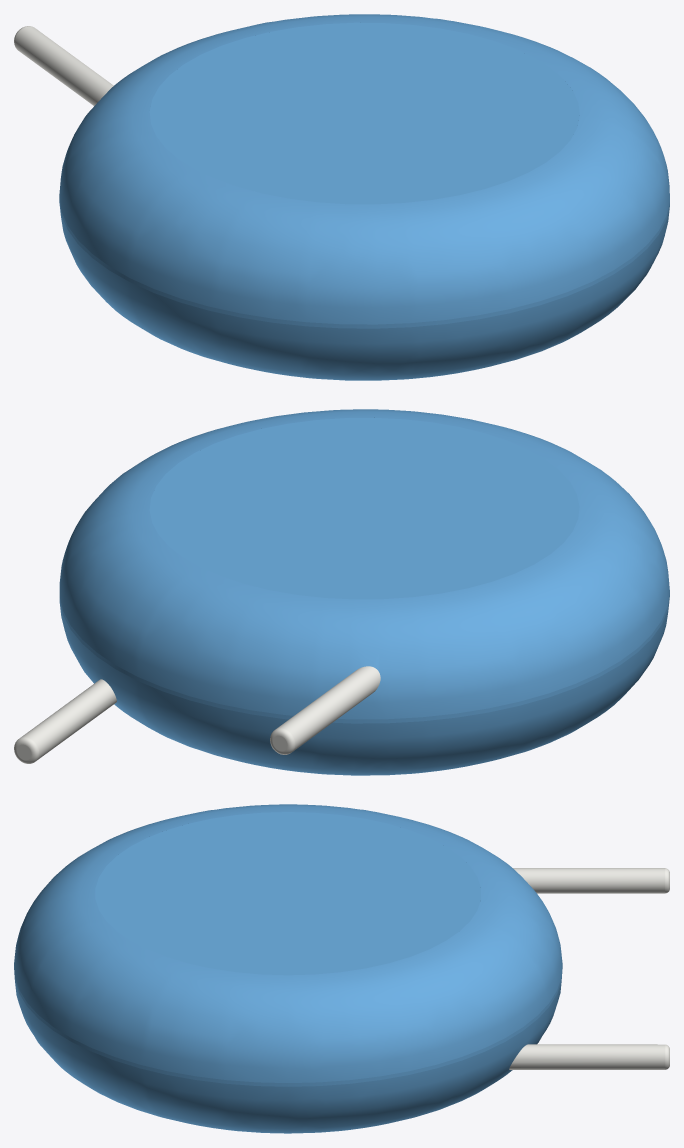
File: RV_Disc_D15.5mm_W4.7mm_P7.5mm.glb
3 views of the same model, one above another, from view 1: azimuth 30°, elevation 25°; view 2: azimuth 150°, elevation 25°; view 3: azimuth 270°, elevation 25° (orthographic). The views are drawn at different scales.
Visible parts, largest first — view 1: Shape_IndexedFaceSet.001, Shape_IndexedFaceSet.003, Shape_IndexedFaceSet.002, Shape_IndexedFaceSet.004, Shape_IndexedFaceSet; view 2: Shape_IndexedFaceSet.001, Shape_IndexedFaceSet.003, Shape_IndexedFaceSet.002, Shape_IndexedFaceSet.004, Shape_IndexedFaceSet.006, Shape_IndexedFaceSet; view 3: Shape_IndexedFaceSet.001, Shape_IndexedFaceSet.003, Shape_IndexedFaceSet.002, Shape_IndexedFaceSet.006, Shape_IndexedFaceSet.004, Shape_IndexedFaceSet.
Part boxes in pixels (x1,y1,x2,y2): Shape_IndexedFaceSet.001: (59, 14, 669, 324); Shape_IndexedFaceSet.003: (149, 22, 579, 204); Shape_IndexedFaceSet.002: (59, 202, 669, 380); Shape_IndexedFaceSet.004: (14, 26, 113, 105); Shape_IndexedFaceSet: (59, 198, 669, 328); Shape_IndexedFaceSet.001: (59, 409, 669, 719); Shape_IndexedFaceSet.003: (149, 418, 579, 599); Shape_IndexedFaceSet.002: (59, 599, 669, 775); Shape_IndexedFaceSet.004: (276, 666, 380, 751); Shape_IndexedFaceSet.006: (20, 679, 116, 760); Shape_IndexedFaceSet: (59, 593, 669, 723); Shape_IndexedFaceSet.001: (14, 804, 562, 1082); Shape_IndexedFaceSet.003: (95, 812, 480, 975); Shape_IndexedFaceSet.002: (15, 981, 561, 1133); Shape_IndexedFaceSet.006: (509, 1044, 664, 1069); Shape_IndexedFaceSet.004: (513, 868, 664, 893); Shape_IndexedFaceSet: (14, 966, 562, 1086).
Bounding box in the file's own units: 6.1 × 1.85 × 7.29.
